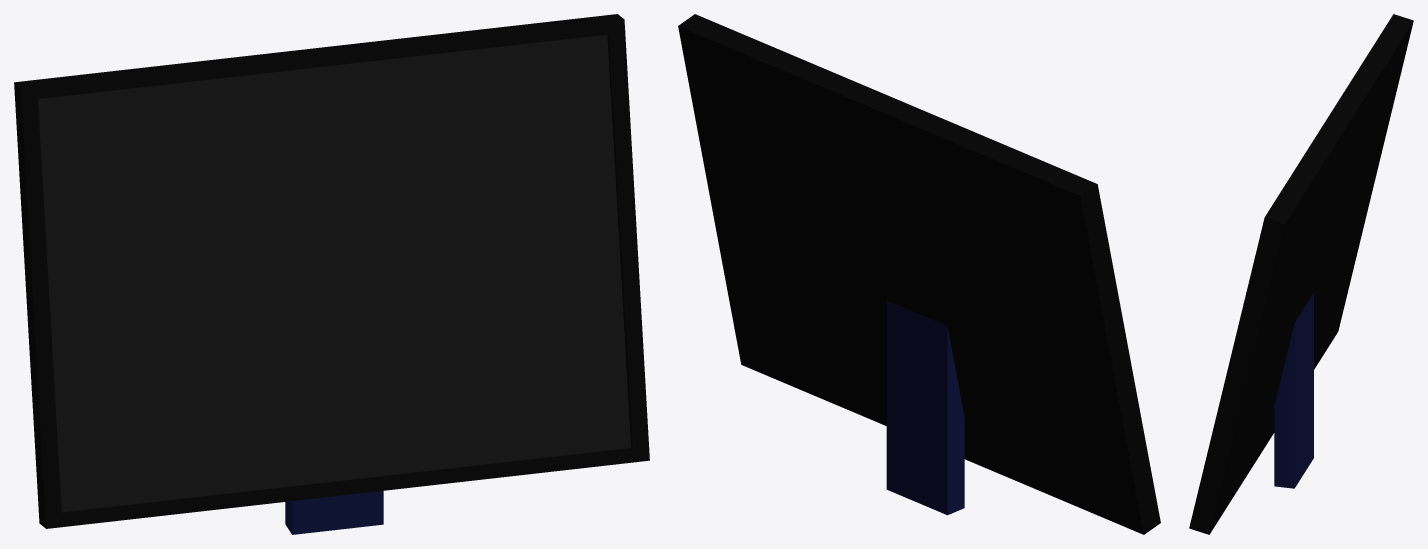
The model's file is screen.glb.
3 views of the same model, side by side, from view 1: azimuth 30°, elevation 25°; view 2: azimuth 150°, elevation 25°; view 3: azimuth 270°, elevation 25° (orthographic). The views are drawn at different scales.
Parts seen in each view (by area): view 1: screen; view 2: screen; view 3: screen.
Boxes of the visible parts, left/top/right/bottom form: screen: left=14, top=14, right=649, bottom=534; screen: left=678, top=14, right=1160, bottom=534; screen: left=1189, top=14, right=1413, bottom=534.
Bounding box in the file's own units: 0.4706 × 0.3693 × 0.2087.
